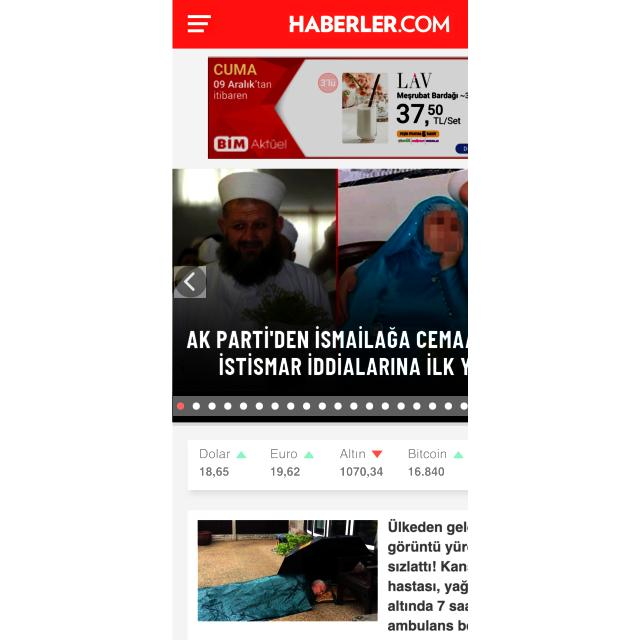ImageView: (208, 56, 468, 159)
QR code: (188, 440, 468, 490)
Switch: (172, 168, 470, 423)
bag: (173, 0, 468, 48)
carousel: (174, 266, 206, 298), (186, 12, 212, 34)
copy: (197, 518, 378, 623)
date picker: (288, 12, 454, 38)
decoration: (185, 10, 214, 35)
dropdown: (173, 396, 469, 416)
